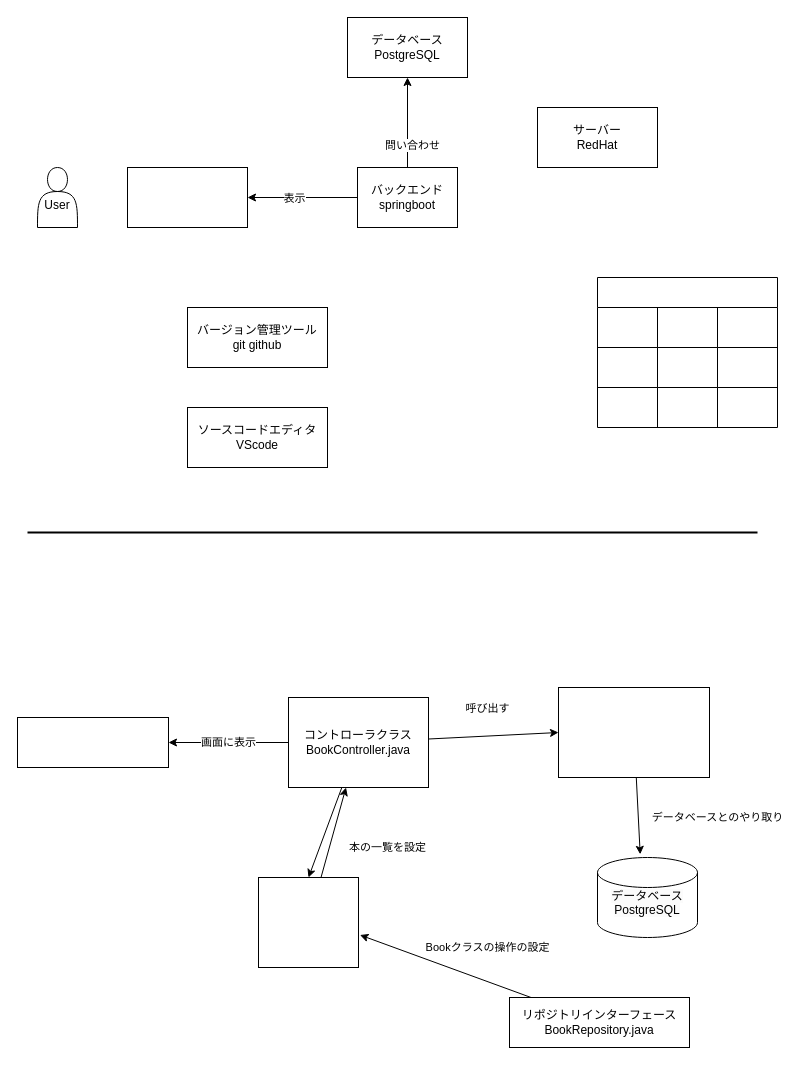
The diagram is 800 pixels wide and 1065 high, and some of its shapes have lost their labels. Each missing label, with the centre of its shape:
BookList: the point at 687,352
bookList.html: the point at 92,742
サービスクラス BookService.java: the point at 634,732
フロントエンド React: the point at 187,197
モデルクラス Book.java テーブルのデータを保持: the point at 308,922
